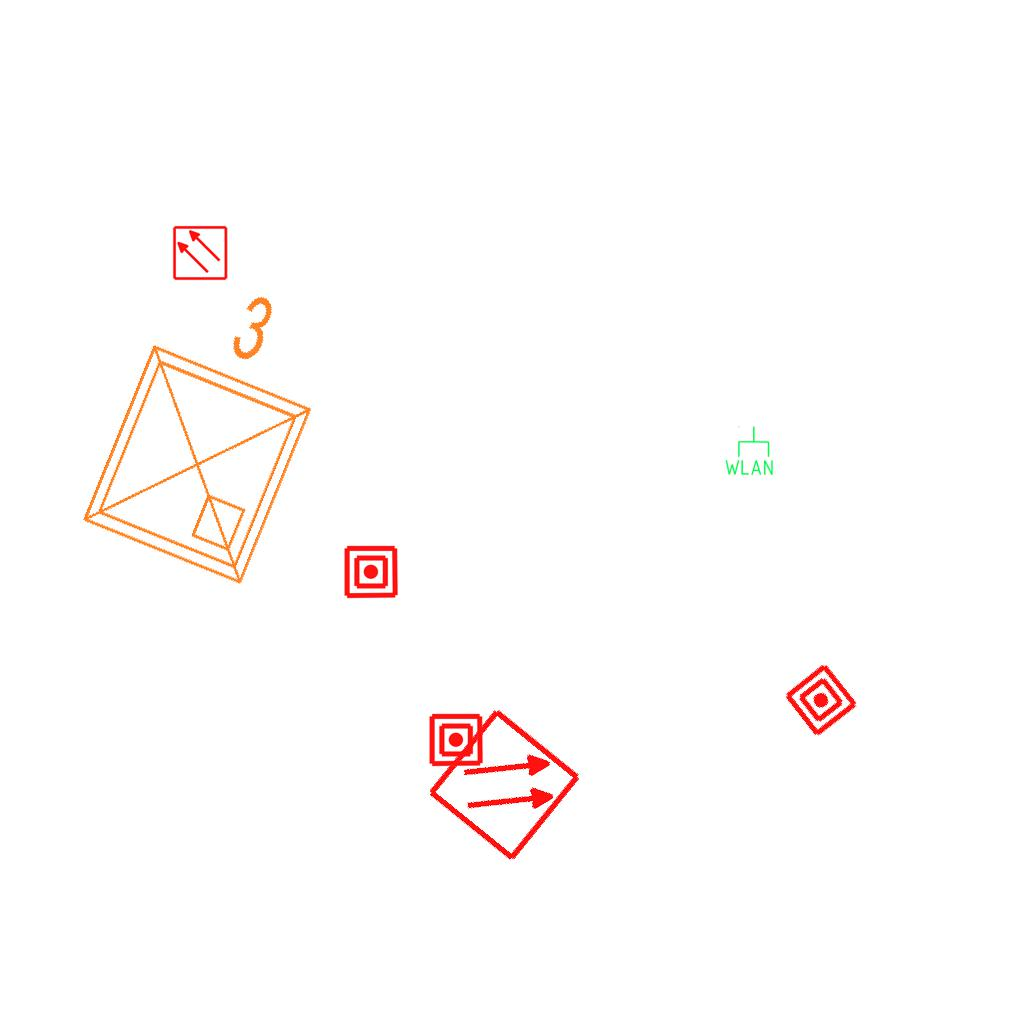Einbaudownlights_LED_Konferenzraeume: (56, 246, 362, 604)
NAM-Nichtautomatischer_Melder: (781, 660, 861, 740), (343, 544, 399, 600), (428, 712, 484, 768)
RMO_Rauchmelder_optischer: (425, 705, 584, 864), (172, 225, 228, 281)
WLAN: (723, 425, 775, 477)
